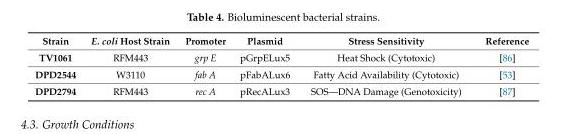table: (34, 34, 528, 97)
table column: (299, 34, 472, 97), (82, 34, 176, 97), (232, 34, 299, 97), (176, 34, 232, 97), (472, 34, 528, 97), (34, 34, 82, 97)
table column header: (34, 34, 528, 48)
table row: (34, 48, 528, 65), (34, 65, 528, 82), (34, 82, 528, 97), (34, 34, 528, 48)
